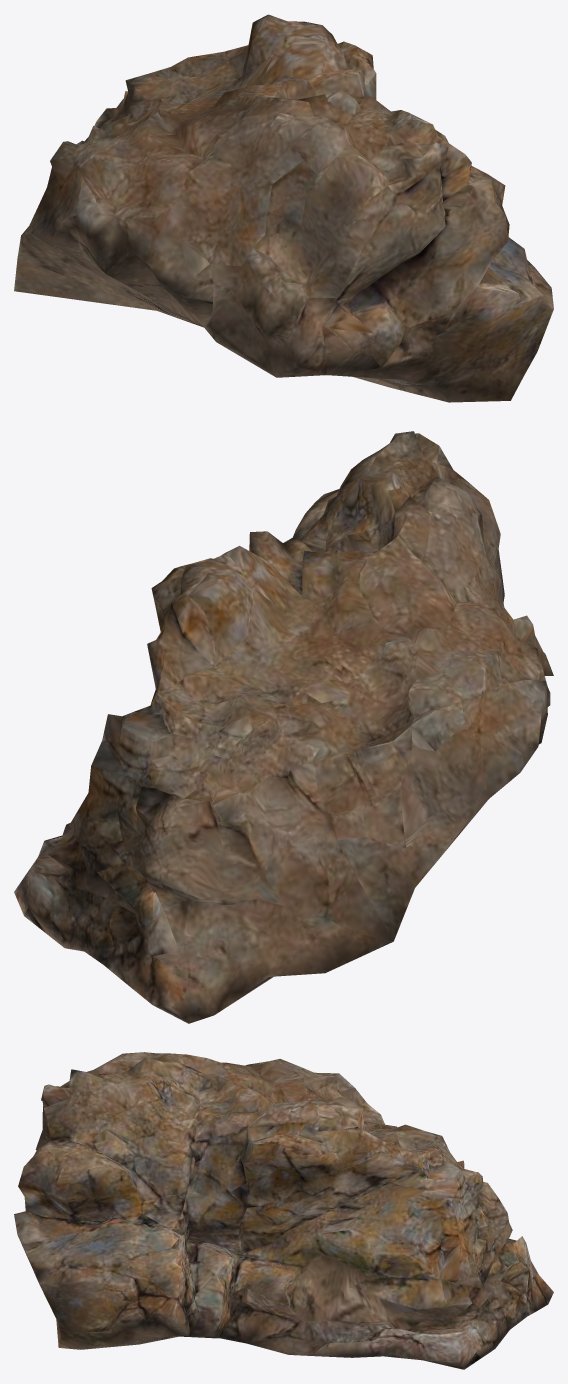
Rendered from boulder.glb.
3 renders of one model, top to bottom at view 1: azimuth 30°, elevation 25°; view 2: azimuth 150°, elevation 25°; view 3: azimuth 270°, elevation 25°, orthographic. The views are drawn at different scales.
Parts seen in each view (by area): view 1: boulder_01 baked; view 2: boulder_01 baked; view 3: boulder_01 baked.
Part boxes in pixels (x1=…): boulder_01 baked: x1=14, y1=14, x2=553, y2=402; boulder_01 baked: x1=14, y1=431, x2=553, y2=1023; boulder_01 baked: x1=14, y1=1052, x2=553, y2=1369.
Bounding box in the file's own units: 1.27 × 0.9988 × 1.83.
Materials: 1 (1 with a texture image).
